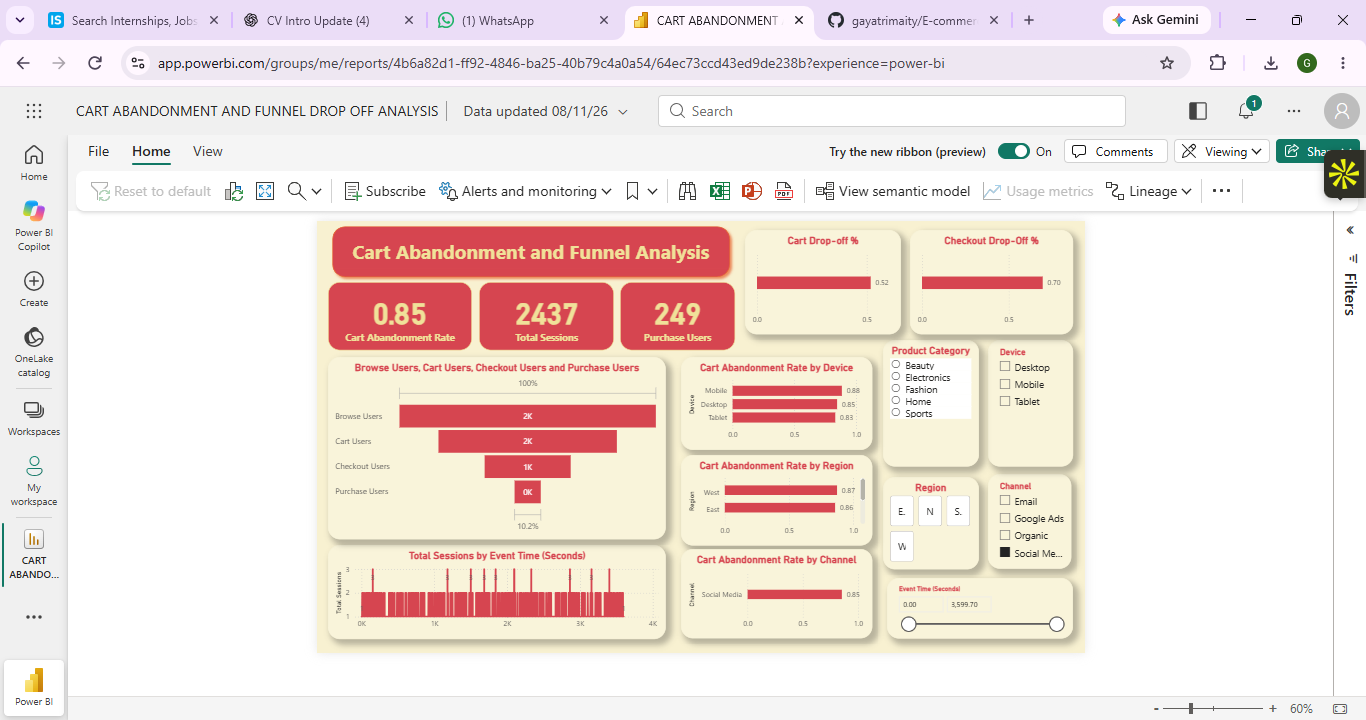

Layout of this report page (visuals, bound fields, positions):
{"tool":"powerbi","page":{"name":"Cart Abandonment & Funnel Analysis","canvas":[1280,720],"ordinal":0},"visuals":[{"type":"card","fields":{"Values":["Funnel_Analysis_Data.Cart Abandonment Rate"]},"box":[19,102.4,240,114.2],"z":0},{"type":"card","fields":{"Values":["Funnel_Analysis_Data.Purchase Users"]},"box":[504.9,102.4,191.7,114.2],"z":1000},{"type":"advancedSlicerVisual","fields":{"Values":["Funnel_Analysis_Data.Region"]},"box":[943.9,425.9,159.5,153.7],"z":2000},{"type":"slicer","fields":{"Values":["Funnel_Analysis_Data.Channel"]},"box":[1118,421.5,139,158.1],"z":3000},{"type":"slicer","fields":{"Values":["Funnel_Analysis_Data.Device"]},"box":[1118,199,141.9,210.7],"z":4000},{"type":"listSlicer","fields":{"Values":["Funnel_Analysis_Data.Product Category"]},"box":[943.9,199,159.5,210.7],"z":5000},{"type":"slicer","fields":{"Values":["Funnel_Analysis_Data.Event Time (Seconds)"]},"box":[949.8,595.6,310.2,101],"z":6000},{"type":"card","fields":{"Values":["Funnel_Analysis_Data.Total Sessions"]},"box":[269.3,102.4,225.4,114.2],"z":7000},{"type":"barChart","fields":{"Y":["Funnel_Analysis_Data.Cart Drop-off %"]},"box":[714.1,14.6,260.5,174.2],"z":8000},{"type":"barChart","fields":{"Y":["Funnel_Analysis_Data.Checkout Drop-Off %"]},"box":[987.8,14.6,272.2,174.2],"z":9000},{"type":"lineChart","fields":{"Y":["Funnel_Analysis_Data.Total Sessions"],"Category":["Funnel_Analysis_Data.Event Time (Seconds)"]},"box":[19,540,563.4,156.6],"z":10000},{"type":"funnel","fields":{"Y":["Funnel_Analysis_Data.Browse Users","Funnel_Analysis_Data.Cart Users","Funnel_Analysis_Data.Checkout Users","Funnel_Analysis_Data.Purchase Users"]},"box":[19,226.8,563.4,304.4],"z":11000},{"type":"clusteredBarChart","fields":{"Category":["Funnel_Analysis_Data.Device"],"Y":["Funnel_Analysis_Data.Cart Abandonment Rate"]},"box":[605.9,226.8,319,155.1],"z":12000},{"type":"clusteredBarChart","fields":{"Y":["Funnel_Analysis_Data.Cart Abandonment Rate"],"Category":["Funnel_Analysis_Data.Region"]},"box":[605.9,389.3,319,150.7],"z":13000},{"type":"clusteredBarChart","fields":{"Y":["Funnel_Analysis_Data.Cart Abandonment Rate"],"Category":["Funnel_Analysis_Data.Channel"]},"box":[605.9,547.3,319,149.3],"z":14000},{"type":"shape","box":[16.1,0,680.5,102.4],"z":15000},{"type":"textbox","box":[30.7,23.4,652.7,55.6],"z":16000}]}

Visuals, with their boxes on the page's 1280x720 design canvas (x1, y1, x2, y2). These are canvas units, not pixel positions in the 1366x720 screenshot, which may show the page scaled, cropped or inside an application window:
card - Funnel_Analysis_Data.Cart Abandonment Rate: rect(19, 102, 259, 217)
card - Funnel_Analysis_Data.Purchase Users: rect(505, 102, 697, 217)
advancedSlicerVisual - Funnel_Analysis_Data.Region: rect(944, 426, 1103, 580)
slicer - Funnel_Analysis_Data.Channel: rect(1118, 422, 1257, 580)
slicer - Funnel_Analysis_Data.Device: rect(1118, 199, 1260, 410)
listSlicer - Funnel_Analysis_Data.Product Category: rect(944, 199, 1103, 410)
slicer - Funnel_Analysis_Data.Event Time (Seconds): rect(950, 596, 1260, 697)
card - Funnel_Analysis_Data.Total Sessions: rect(269, 102, 495, 217)
barChart - Funnel_Analysis_Data.Cart Drop-off %: rect(714, 15, 975, 189)
barChart - Funnel_Analysis_Data.Checkout Drop-Off %: rect(988, 15, 1260, 189)
lineChart - Funnel_Analysis_Data.Total Sessions x Funnel_Analysis_Data.Event Time (Seconds): rect(19, 540, 582, 697)
funnel - Funnel_Analysis_Data.Browse Users x Funnel_Analysis_Data.Cart Users: rect(19, 227, 582, 531)
clusteredBarChart - Funnel_Analysis_Data.Device x Funnel_Analysis_Data.Cart Abandonment Rate: rect(606, 227, 925, 382)
clusteredBarChart - Funnel_Analysis_Data.Cart Abandonment Rate x Funnel_Analysis_Data.Region: rect(606, 389, 925, 540)
clusteredBarChart - Funnel_Analysis_Data.Cart Abandonment Rate x Funnel_Analysis_Data.Channel: rect(606, 547, 925, 697)
shape: rect(16, 0, 697, 102)
textbox: rect(31, 23, 683, 79)
